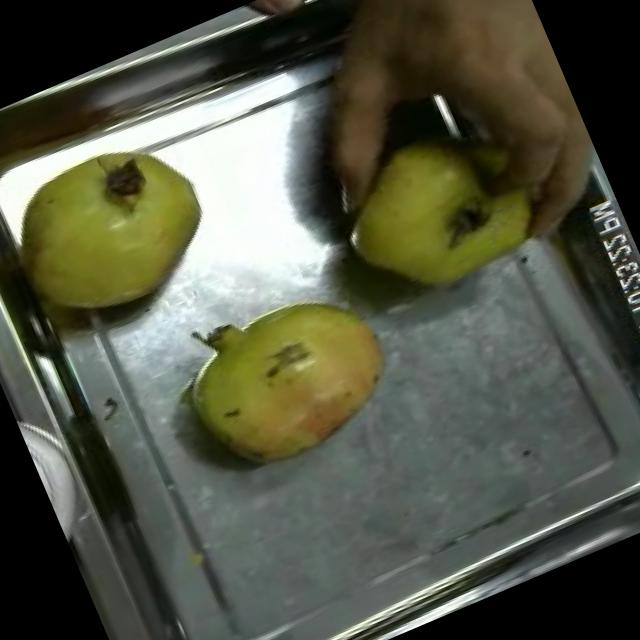fruit: (146, 249, 424, 501), (304, 86, 572, 334), (0, 116, 241, 347)
